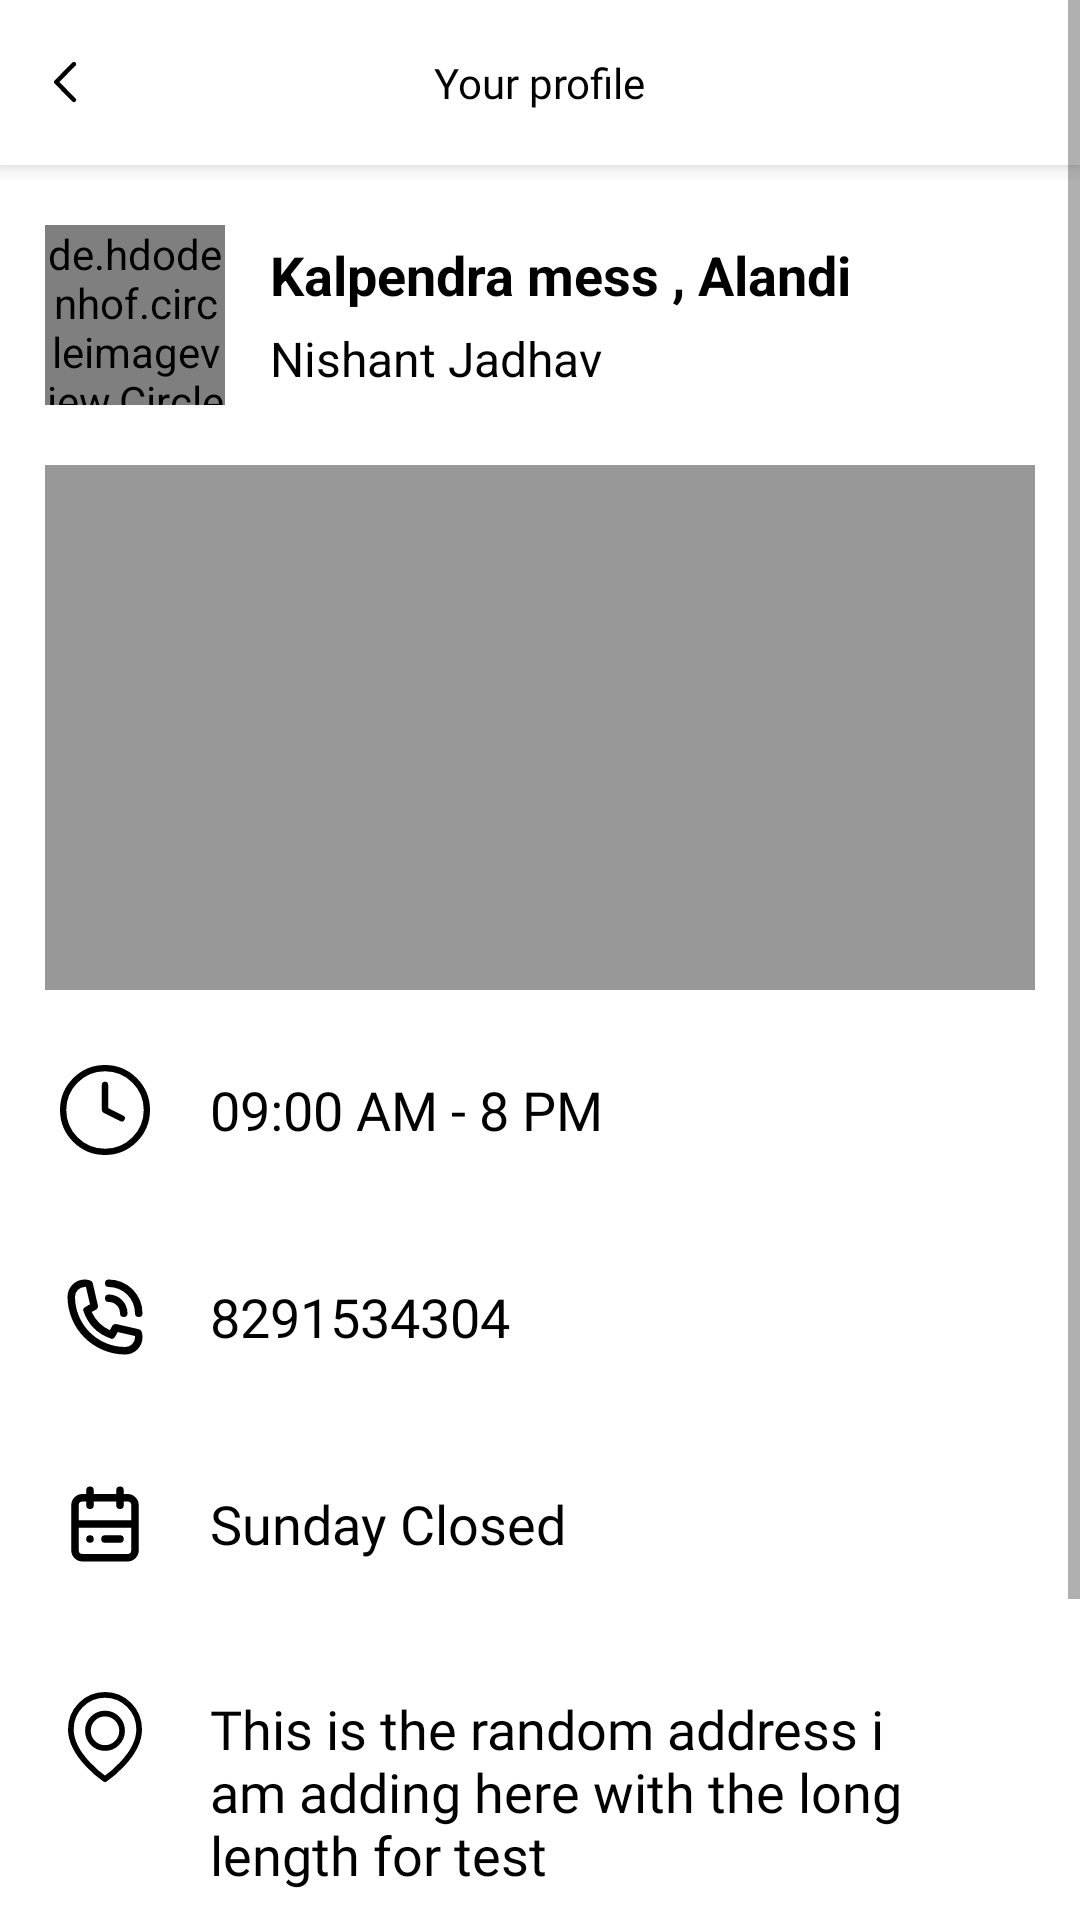

Icons on this 1080 × 1920 Android screen, each with the point to tap as point (x, y):
calendar: point (105, 1524)
clock: point (105, 1110)
map pin: point (105, 1737)
phone call: point (105, 1317)
